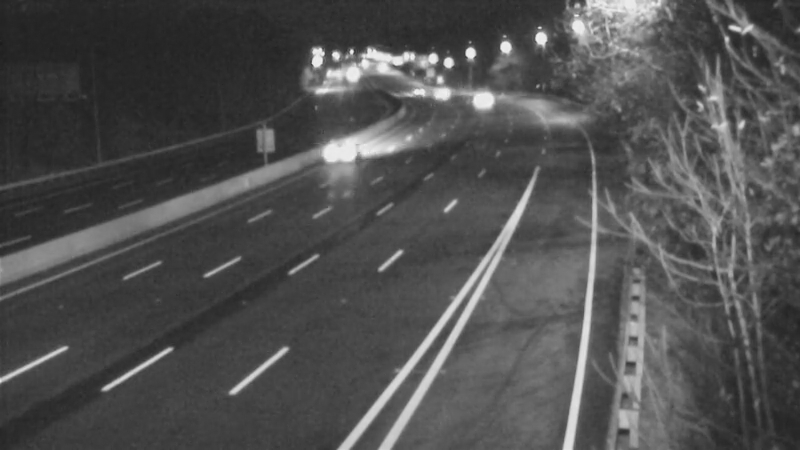vehicle: (295, 117, 375, 197), (393, 65, 443, 115), (419, 68, 469, 118), (451, 79, 501, 129)
